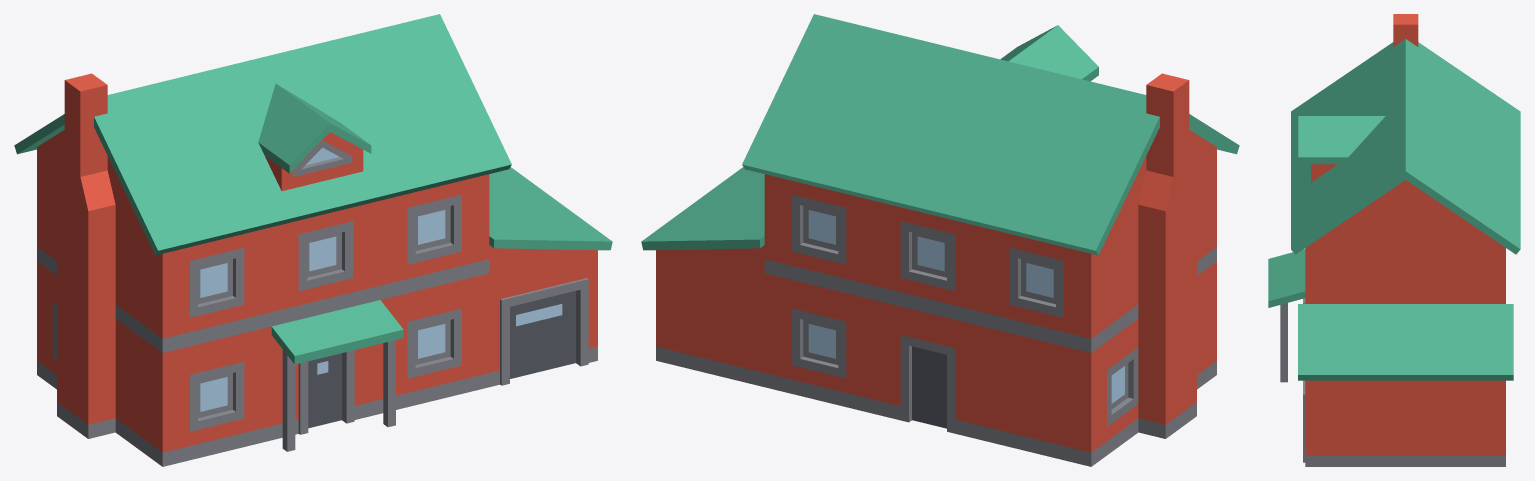
The model's file is House_Type_08.glb.
3 views of the same model, side by side, from view 1: azimuth 30°, elevation 25°; view 2: azimuth 150°, elevation 25°; view 3: azimuth 270°, elevation 25° (orthographic). The views are drawn at different scales.
Parts seen in each view (by area): view 1: house_type08; view 2: house_type08; view 3: house_type08.
Boxes of the visible parts, left/top/right/bottom form: house_type08: left=14, top=14, right=612, bottom=466; house_type08: left=641, top=14, right=1239, bottom=466; house_type08: left=1268, top=14, right=1520, bottom=466.
Bounding box in the file's own units: 1.74 × 1.2 × 1.01.
